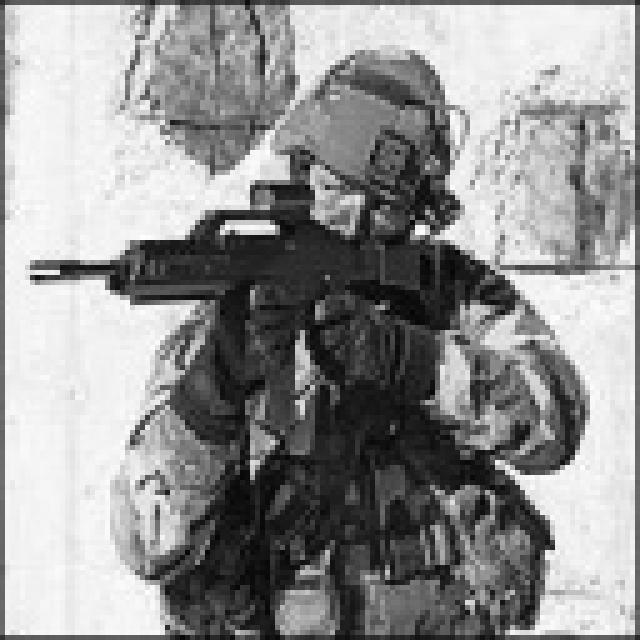Rifle: (0, 152, 456, 420)
